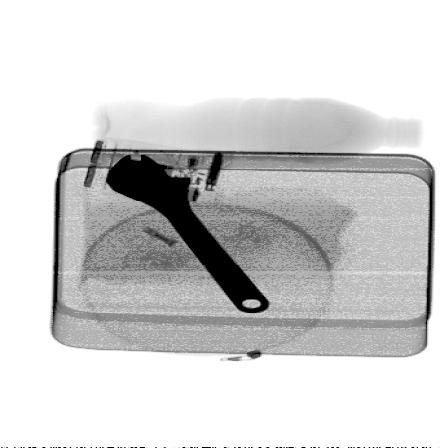Wrench: (103, 151, 270, 315)
